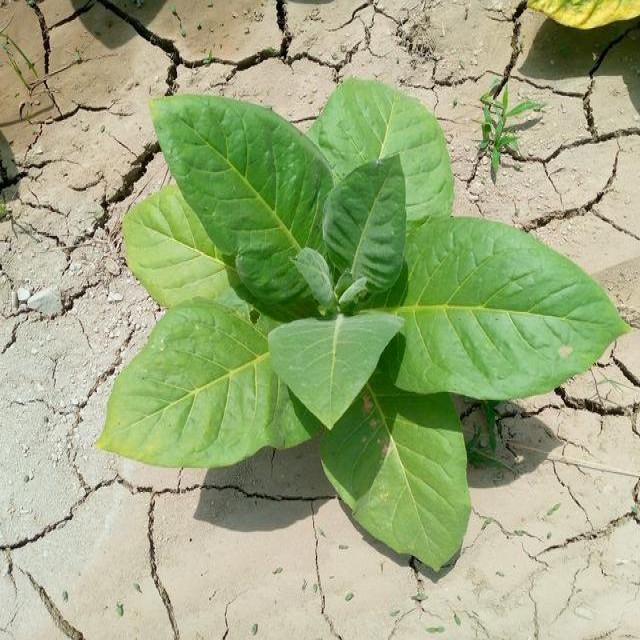crop: (103, 73, 622, 570)
